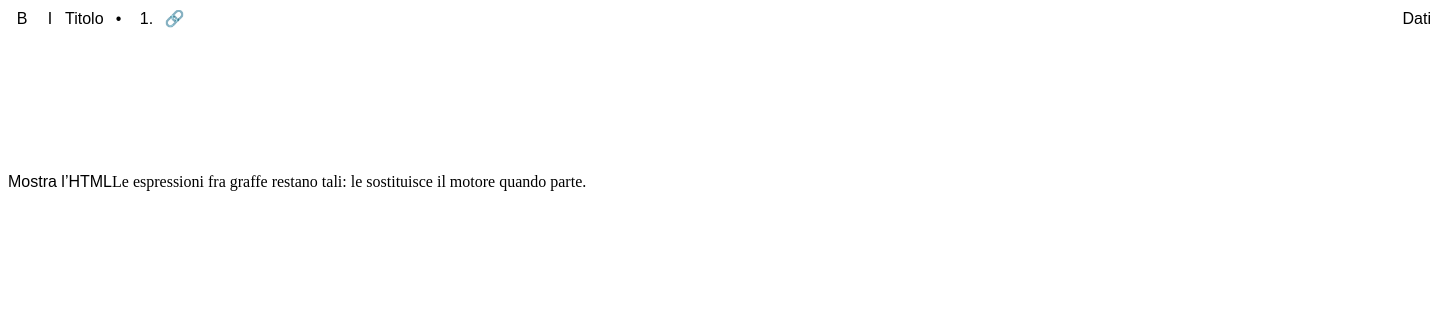
l’editor del corpo email › elenca i dati dei nodi, non solo quelli sempre disponibili
Press the mouse on the button "Dati" at (1417, 18), box top-left (1402, 8), bottom-right (1432, 28)
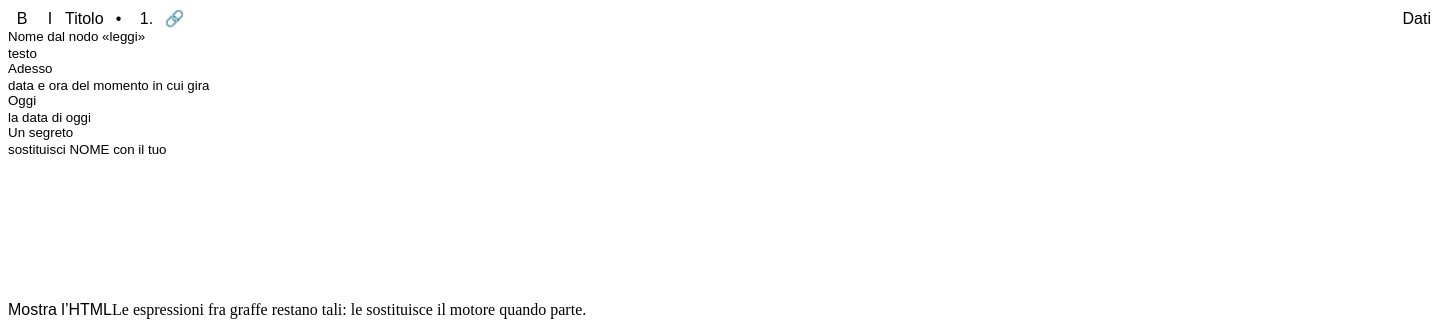
Result: the text "Nome dal nodo «leggi»" is shown at top-left (8, 29), bottom-right (145, 44)
Result: the text "Adesso" is shown at top-left (8, 61), bottom-right (52, 76)
